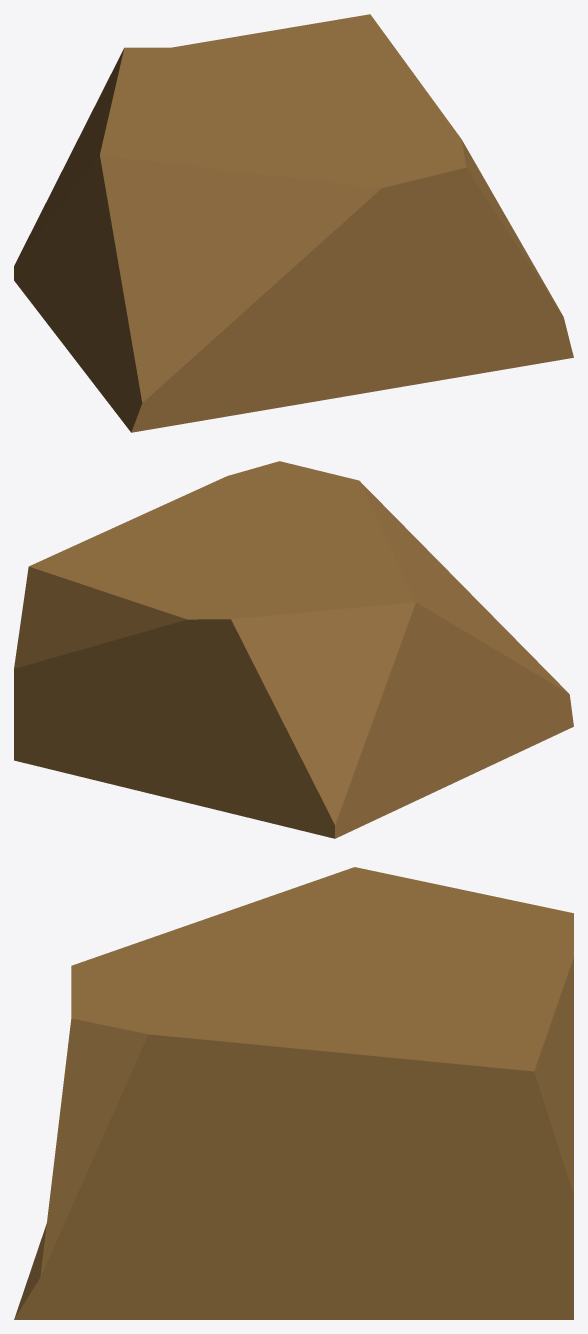
Rendered from SmallRock.fbx.
The picture shows the model from 3 angles, top to bottom: view 1: azimuth 30°, elevation 25°; view 2: azimuth 150°, elevation 25°; view 3: azimuth 270°, elevation 25°; orthographic projection. The views are drawn at different scales.
Parts seen in each view (by area): view 1: pCube1; view 2: pCube1; view 3: pCube1.
Part boxes in pixels (x1=…): pCube1: x1=14, y1=14, x2=573, y2=432; pCube1: x1=14, y1=461, x2=573, y2=838; pCube1: x1=14, y1=867, x2=573, y2=1319.
Bounding box in the file's own units: 4.8 × 2.31 × 4.46.
